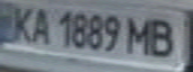1: (51, 6, 75, 47)
8: (84, 9, 106, 52), (69, 7, 90, 50)
9: (100, 11, 127, 54)
A: (27, 2, 54, 46)
B: (145, 13, 187, 60)
K: (6, 1, 39, 45)
M: (124, 12, 157, 56)
